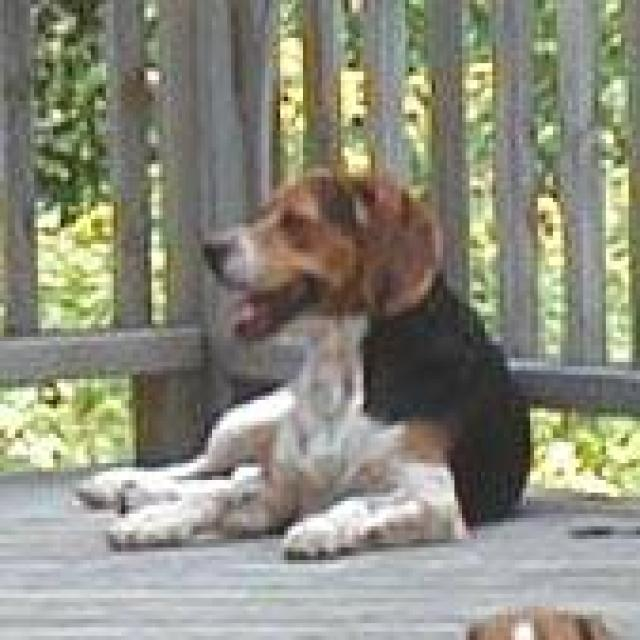Dog: (202, 158, 458, 363)
